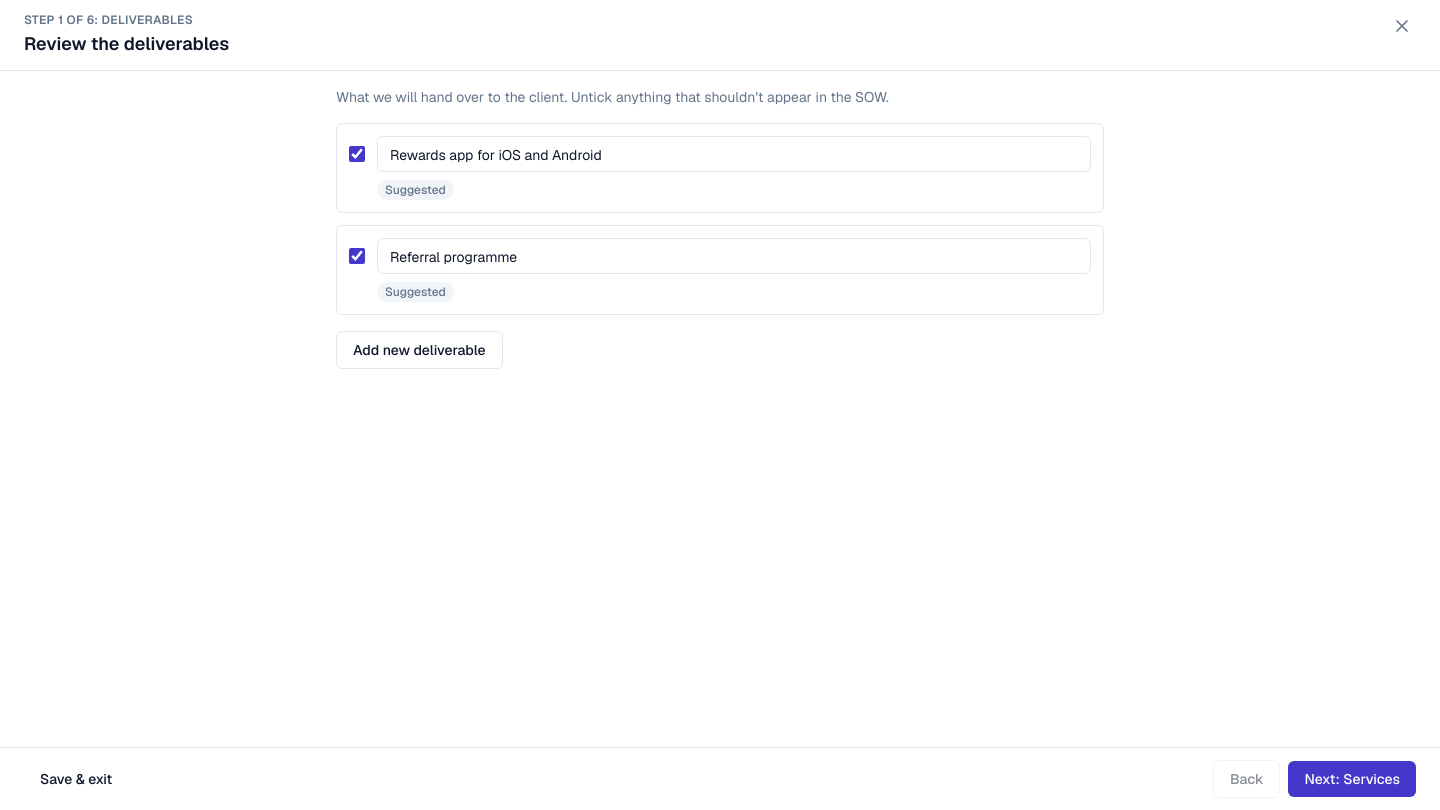
Scenario: SowReviewOverlay — autosave › a save failure is shown on the item and blocks navigation until it is retried successfully
This screenshot has width=1440, height=810.
What coordinates should you click on to do the following:
click the checkbox named "include deliverable 2"
I would click on:
 (357, 256)
Its box is [349,248,365,264].
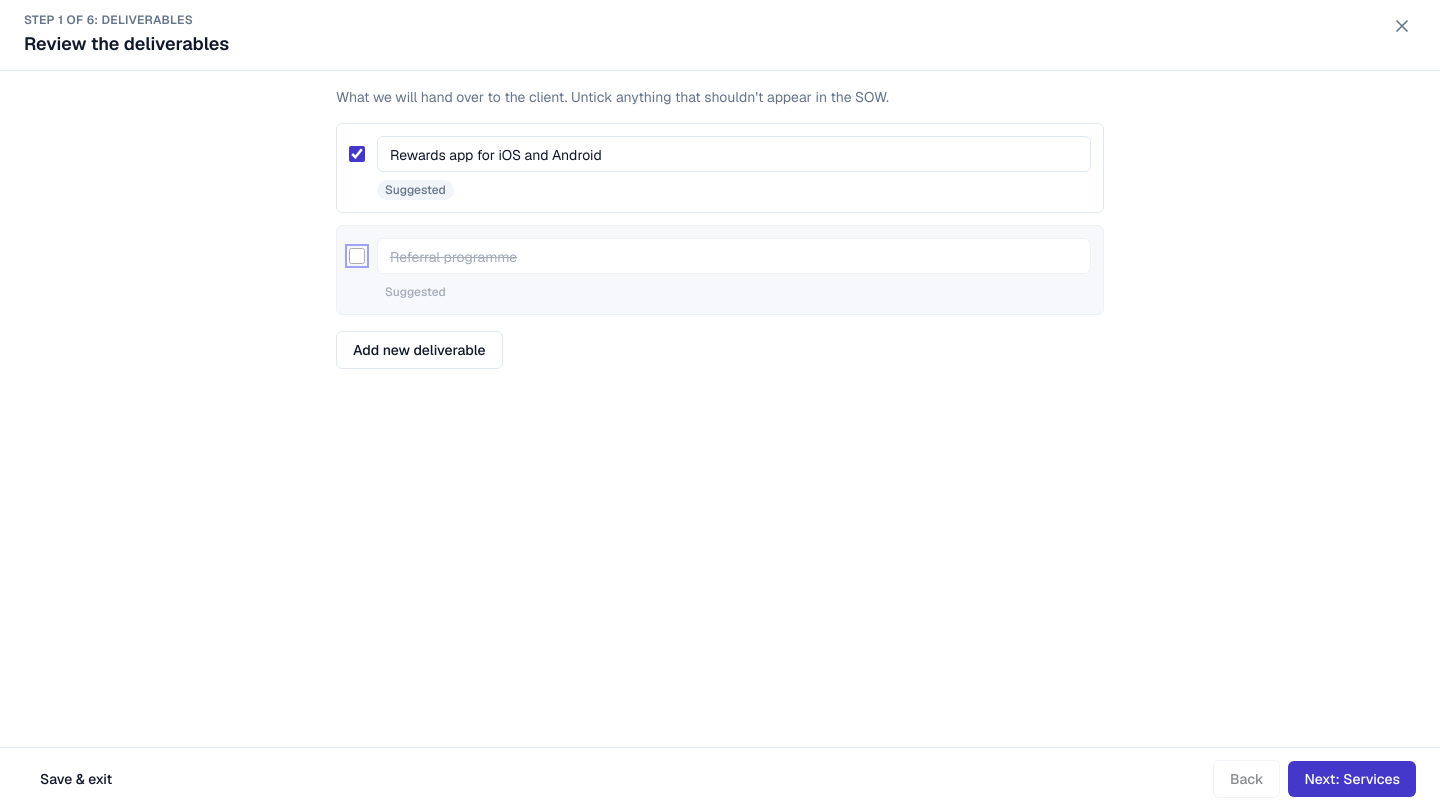
What coordinates should you click on to do the following:
click the button "Next: Services"
I would click on:
 (1352, 779)
Its box is [1288,761,1416,797].
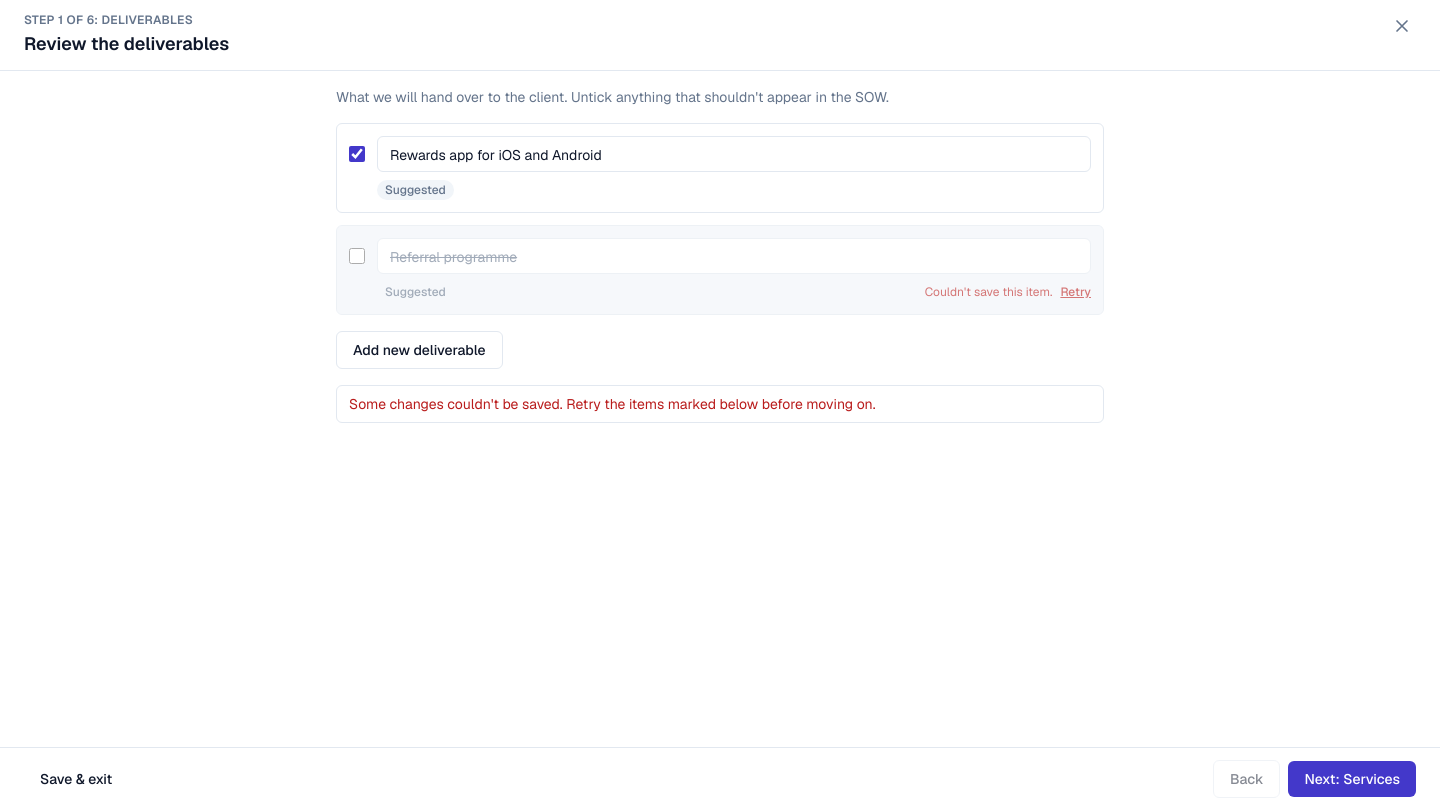
Expected: the text with test id "step-indicator" reads "Step 1 of 6: Deliverables", [24,12,193,28]
Expected: the element with test id "item-save-error" shows "Couldn't save this item.", [925,284,1052,300]
Expected: the message shows "couldn't be saved", [349,395,876,413]
// Close is blocked too.
What coordinates should you click on to do the following:
click the button "Save & exit"
I would click on:
 (76, 779)
Its box is [24,761,128,797].
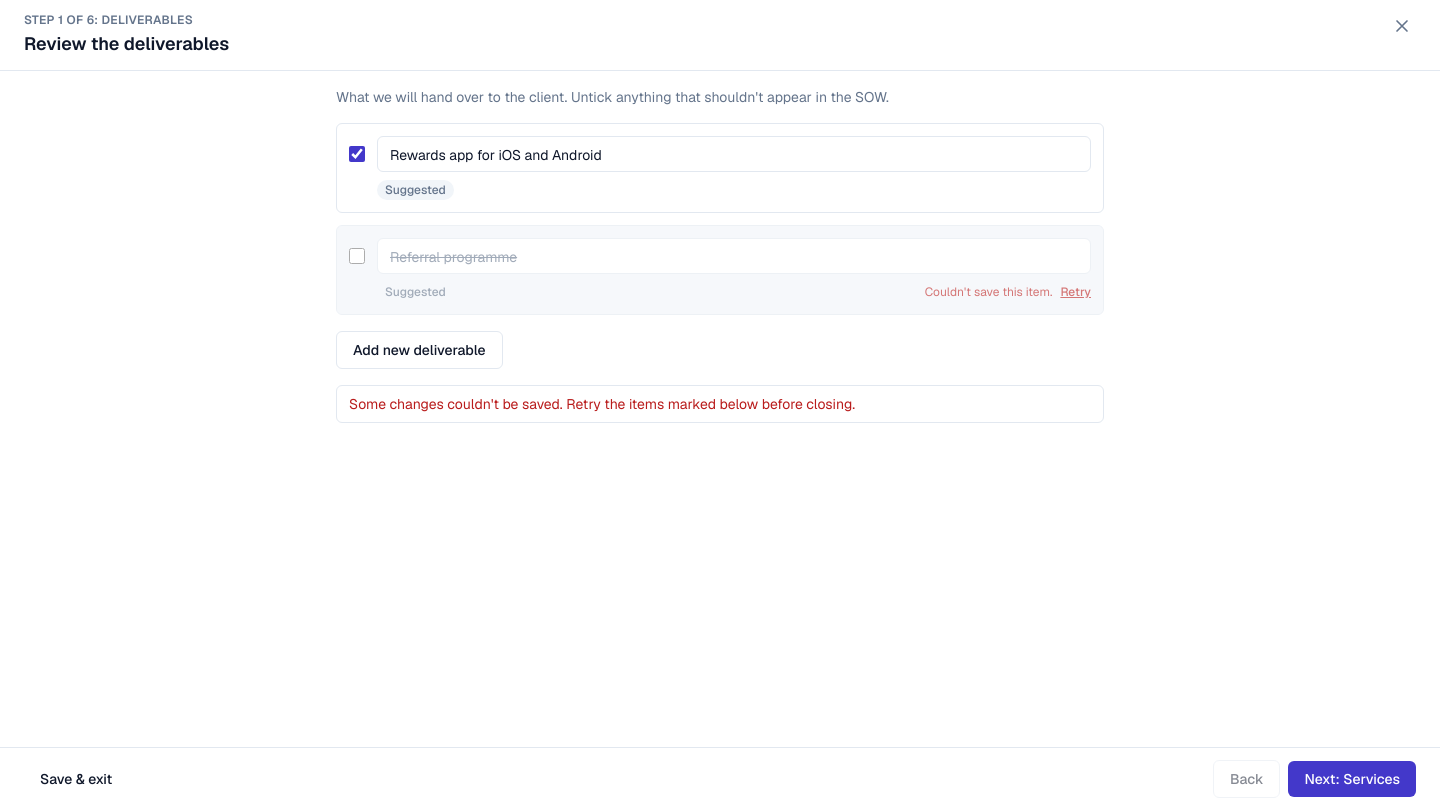
Expected: the text with test id "step-indicator" reads "Step 1 of 6: Deliverables", [24,12,193,28]
What coordinates should you click on to do the following:
click the button "Retry"
I would click on:
 (1076, 292)
Its box is [1060,284,1091,300].
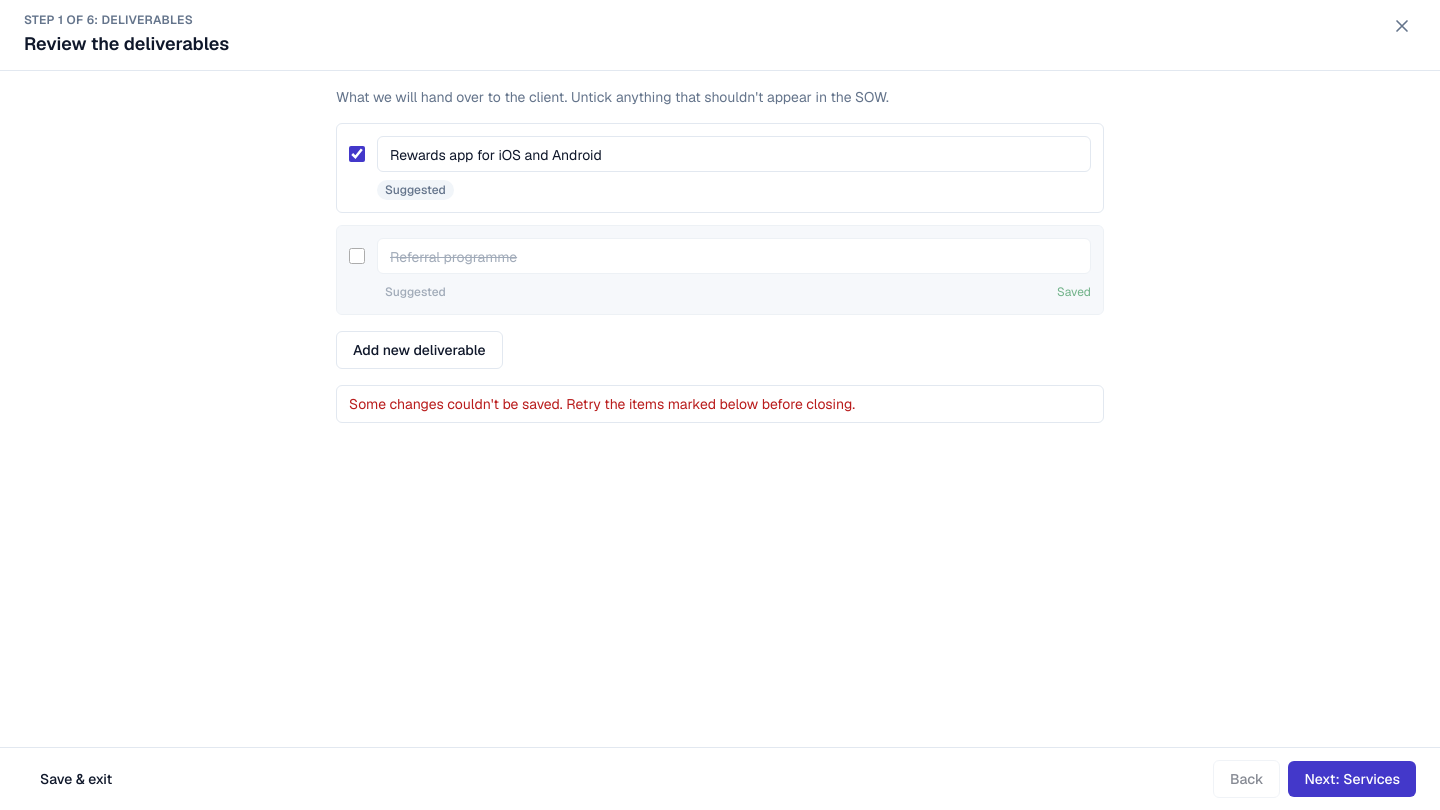
What coordinates should you click on to do the following:
click the button "Next: Services"
I would click on:
 (1352, 779)
Its box is [1288,761,1416,797].
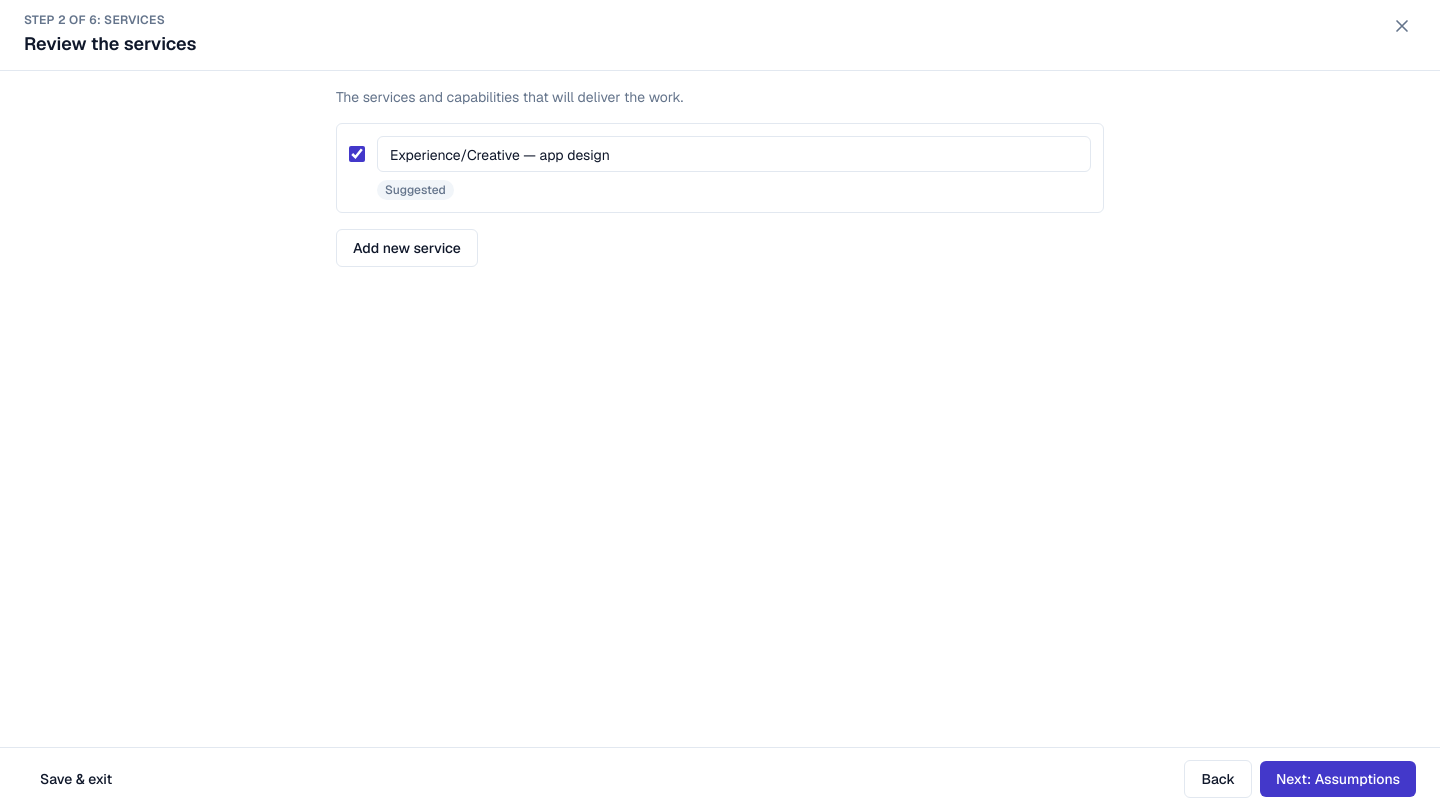
Expected: the text with test id "step-indicator" reads "Step 2 of 6: Services", [24,12,165,28]
